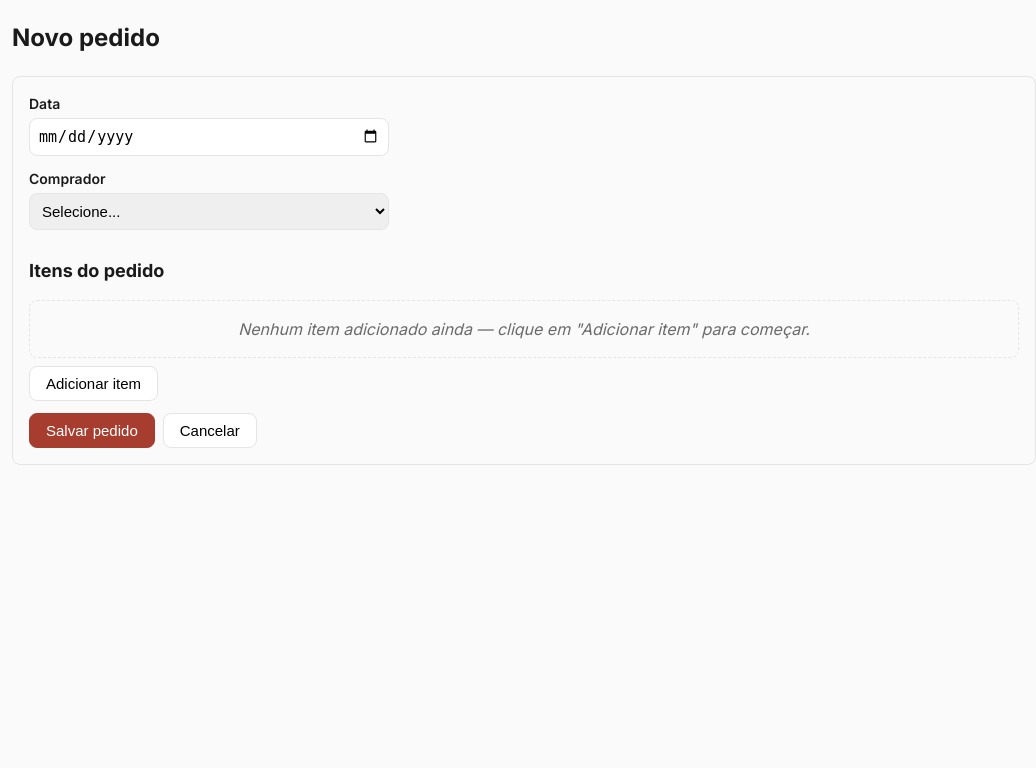
Scenario: PedidoFormPage - erro 422 de cotação indisponível › exibe a mensagem real da API e o botão volta ao estado normal (sem loading infinito)
Type "2026-07-18" into the date field labelled "Data" at (209, 137), box x1=29 y1=118 x2=389 y2=156
Select "Frigorifico Sul" in the dropdown labelled "Comprador" at (209, 211), box x1=29 y1=193 x2=389 y2=230
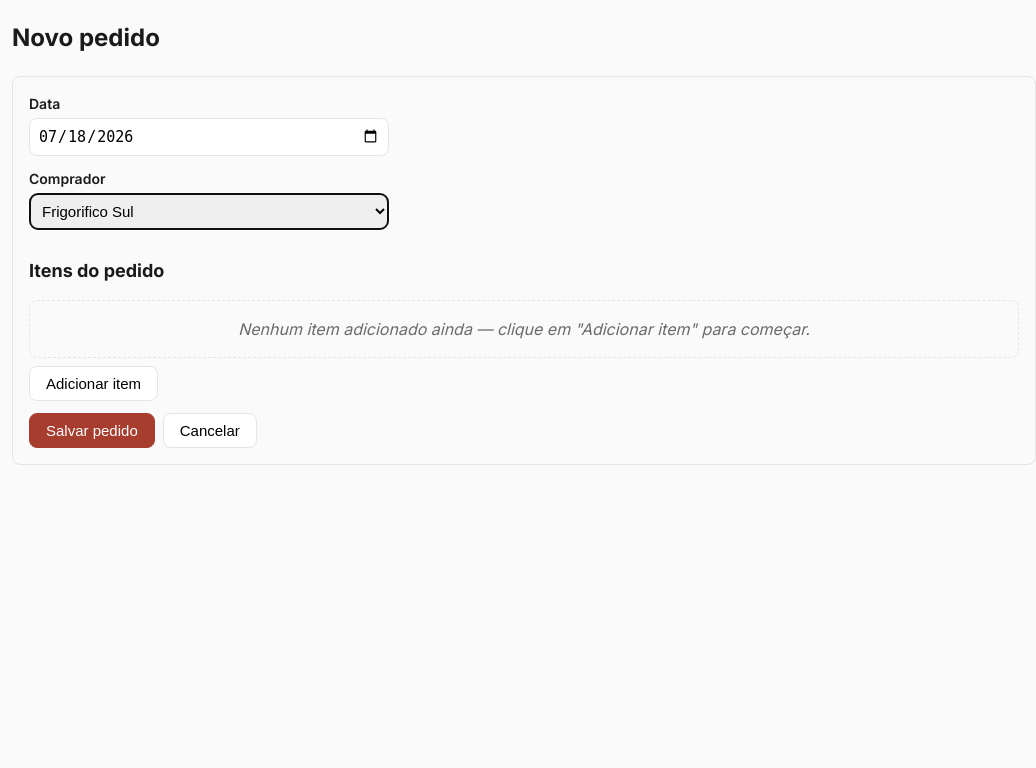
Click the button "Adicionar item" at (94, 383), box x1=29 y1=366 x2=158 y2=401
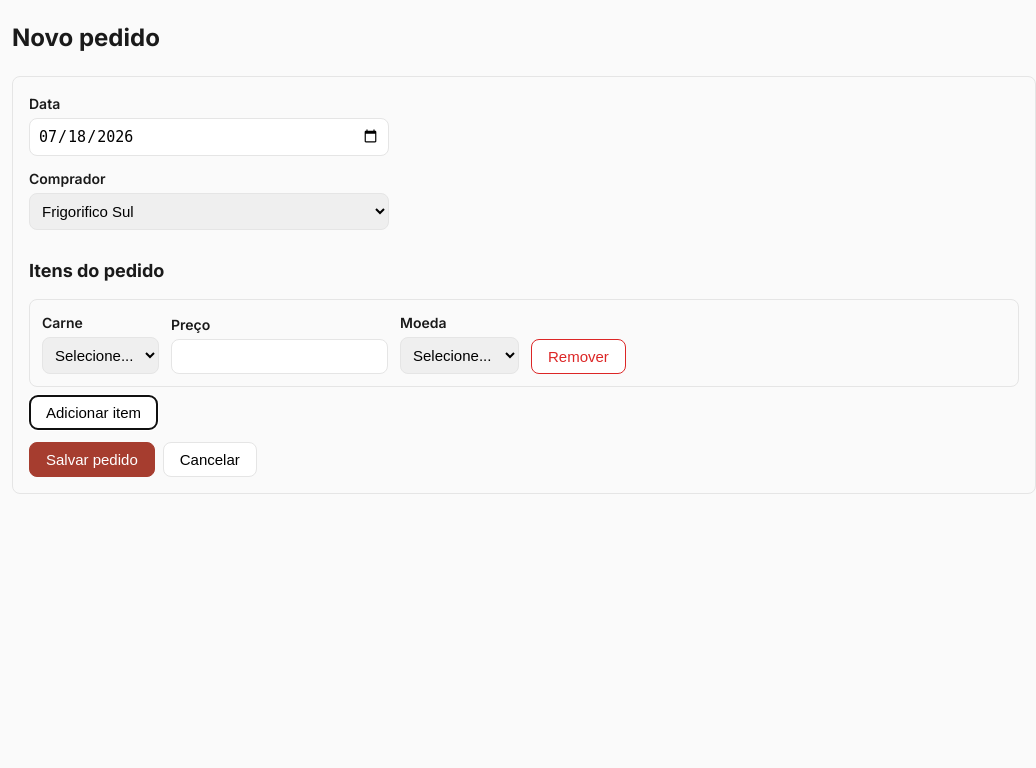
Select "Picanha" in the dropdown labelled "Carne" at (100, 355), box x1=42 y1=337 x2=159 y2=374
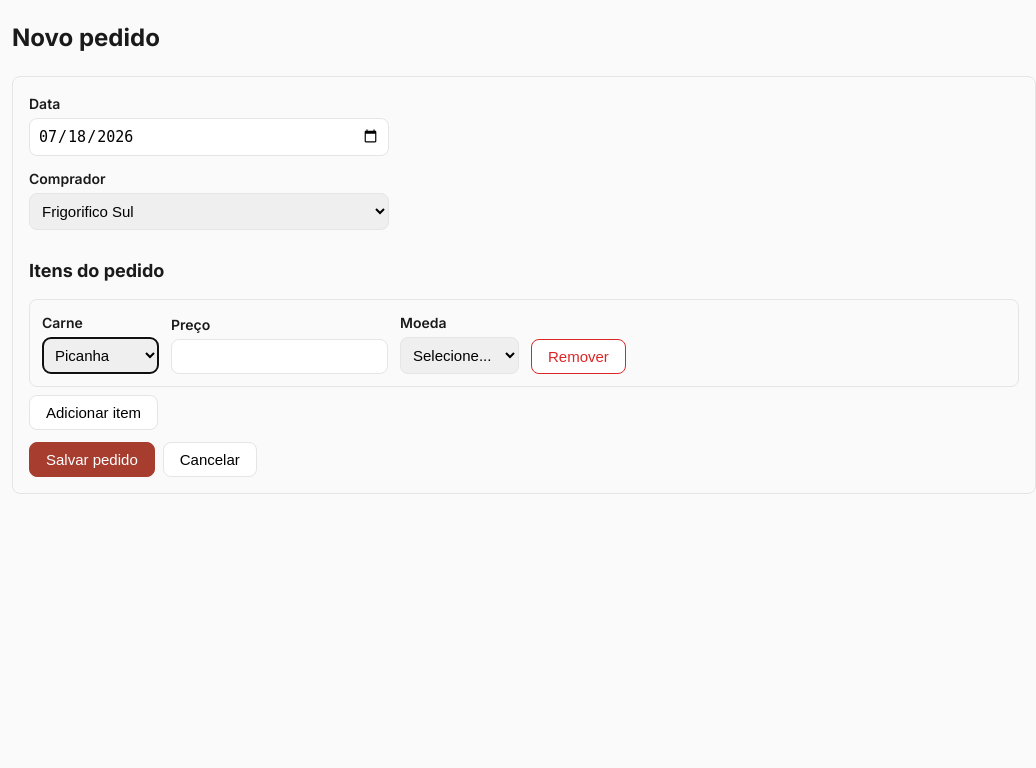
Type "50" into the number field labelled "Preço" at (280, 356), box x1=171 y1=339 x2=388 y2=374
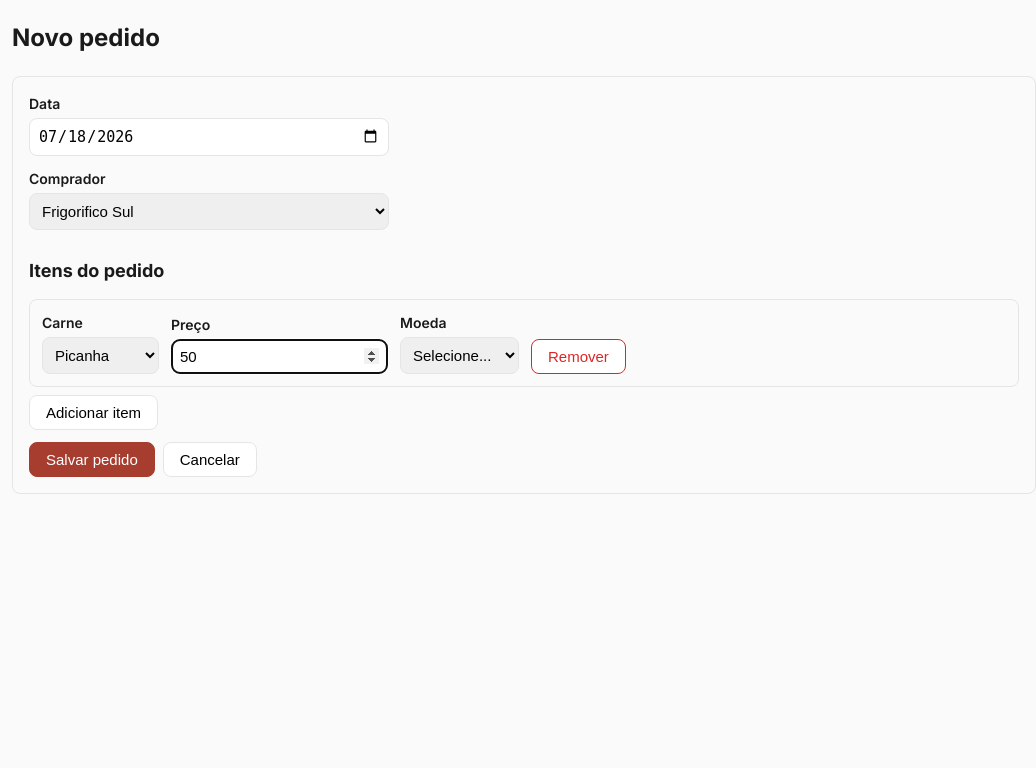
Select "USD - Dólar" in the dropdown labelled "Moeda" at (460, 355), box x1=400 y1=337 x2=519 y2=374
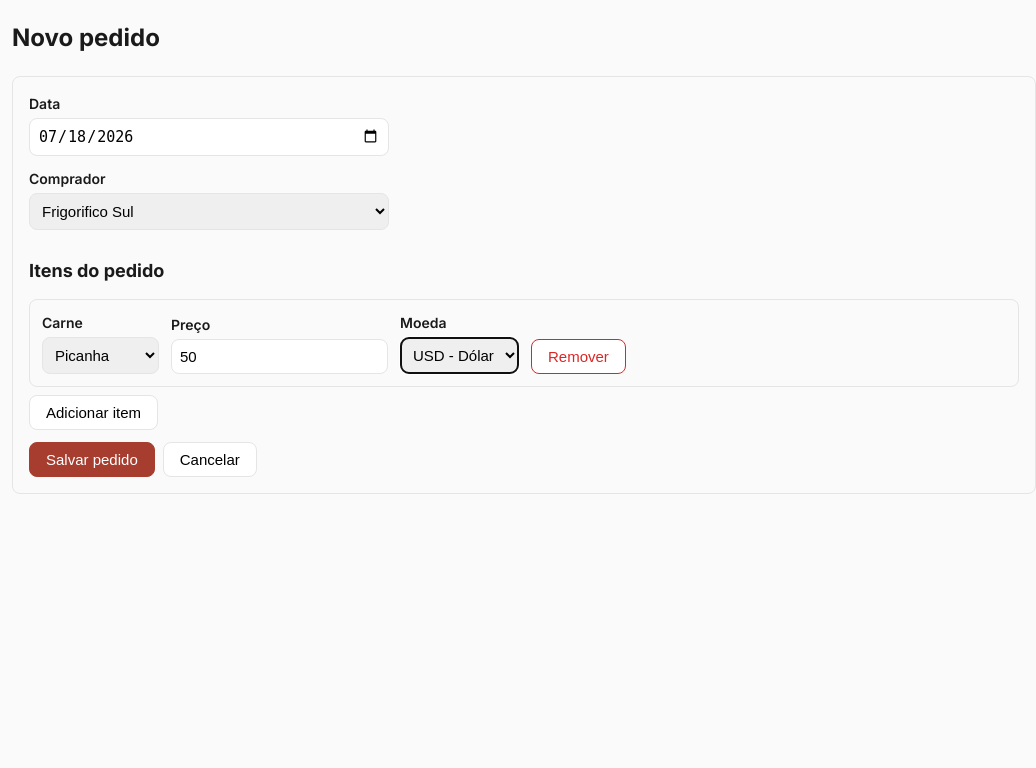
Click the button "Salvar pedido" at (92, 459), box x1=29 y1=442 x2=155 y2=477
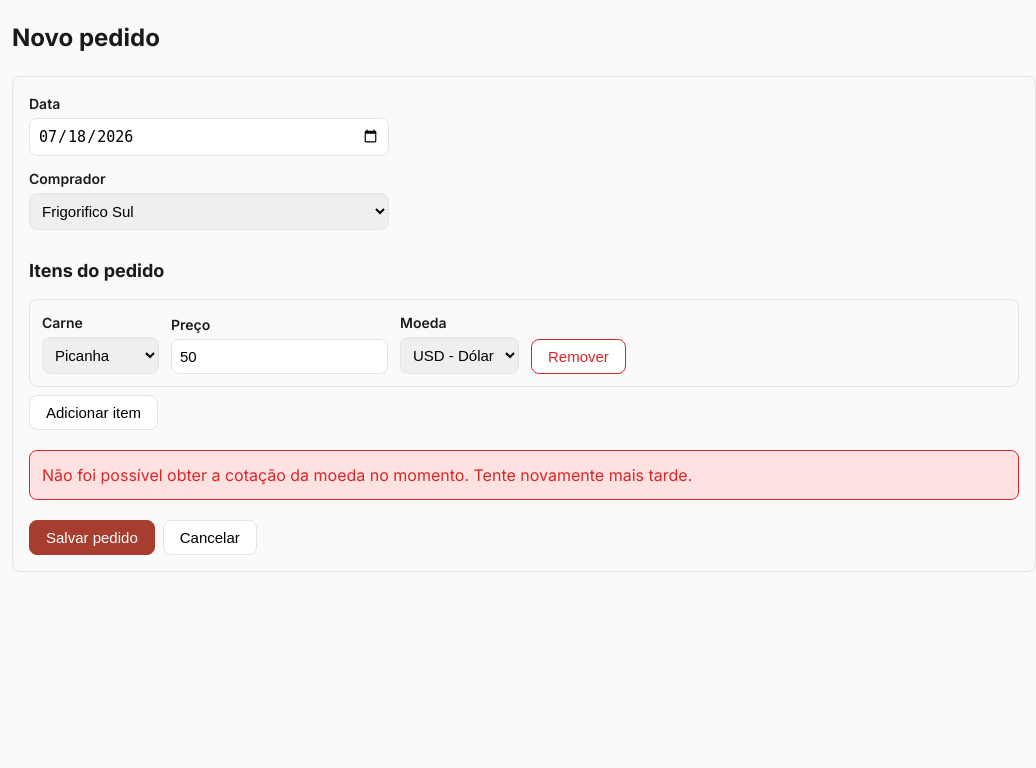
Expected: the button "Salvar pedido" is enabled, x1=29 y1=520 x2=155 y2=555
Expected: the text "Não foi possível obter a cotação da moeda no momento. Tente novamente mais tarde." is shown, x1=42 y1=465 x2=692 y2=485
